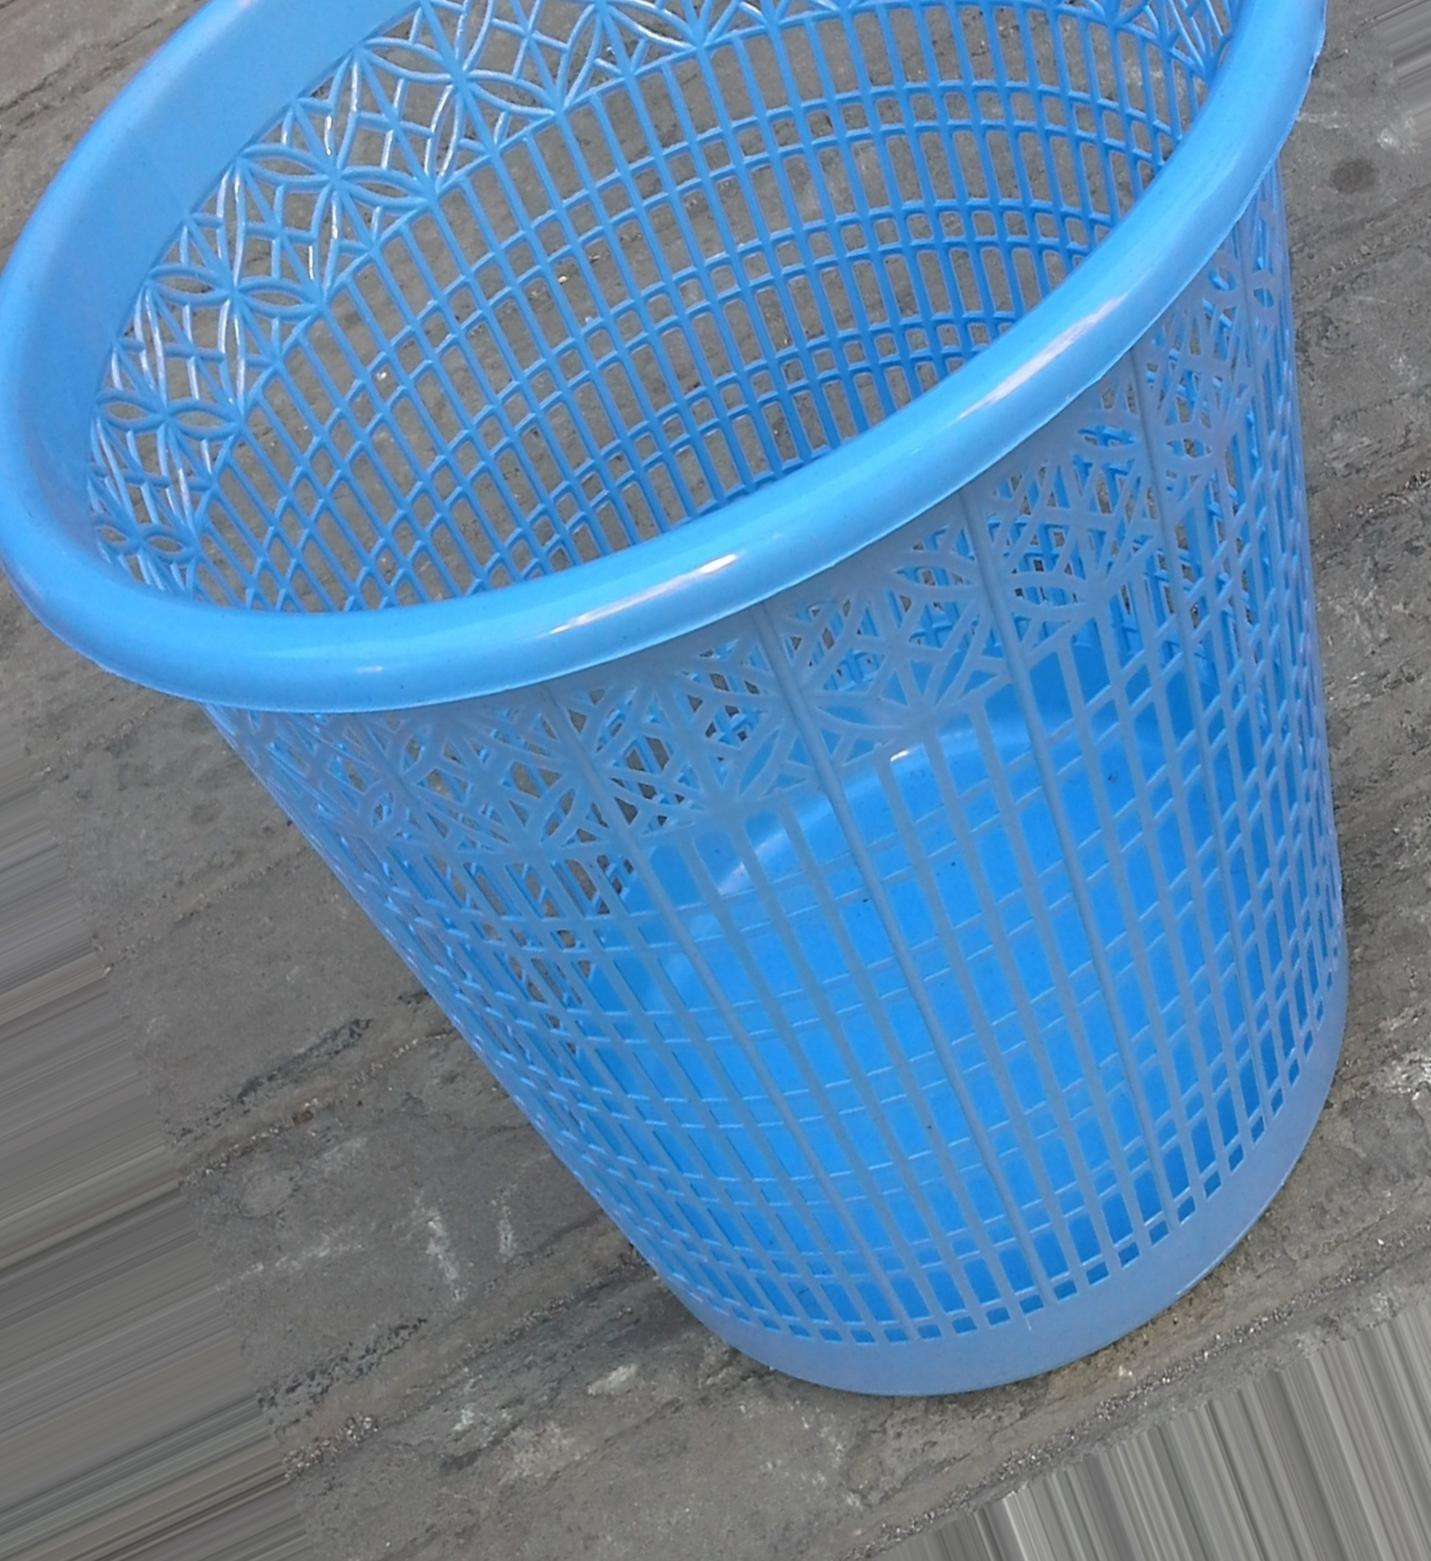Bote de Basura: (0, 0, 1390, 1373)
